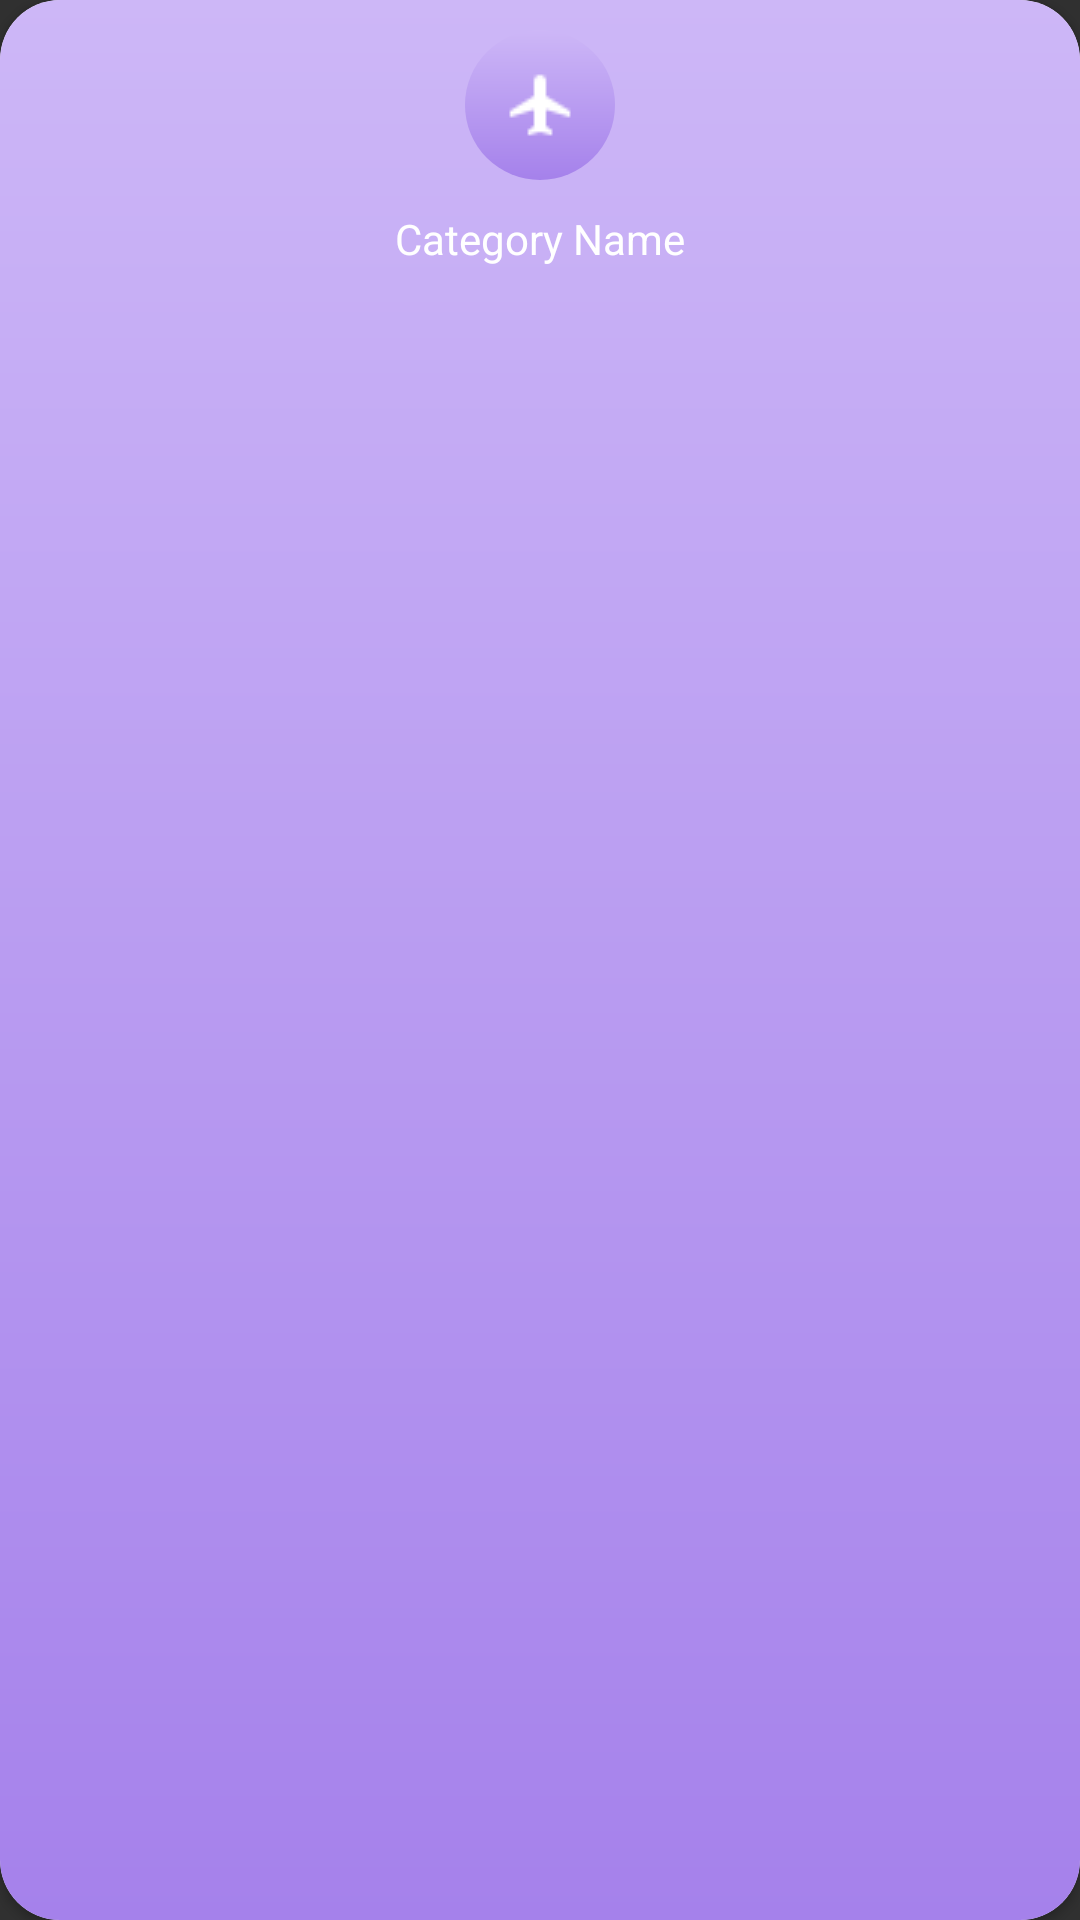

Screen size 1080*1920. Icon name, then its center in pixels as (x=x, y=y):
travel lg: (x=539, y=127)
